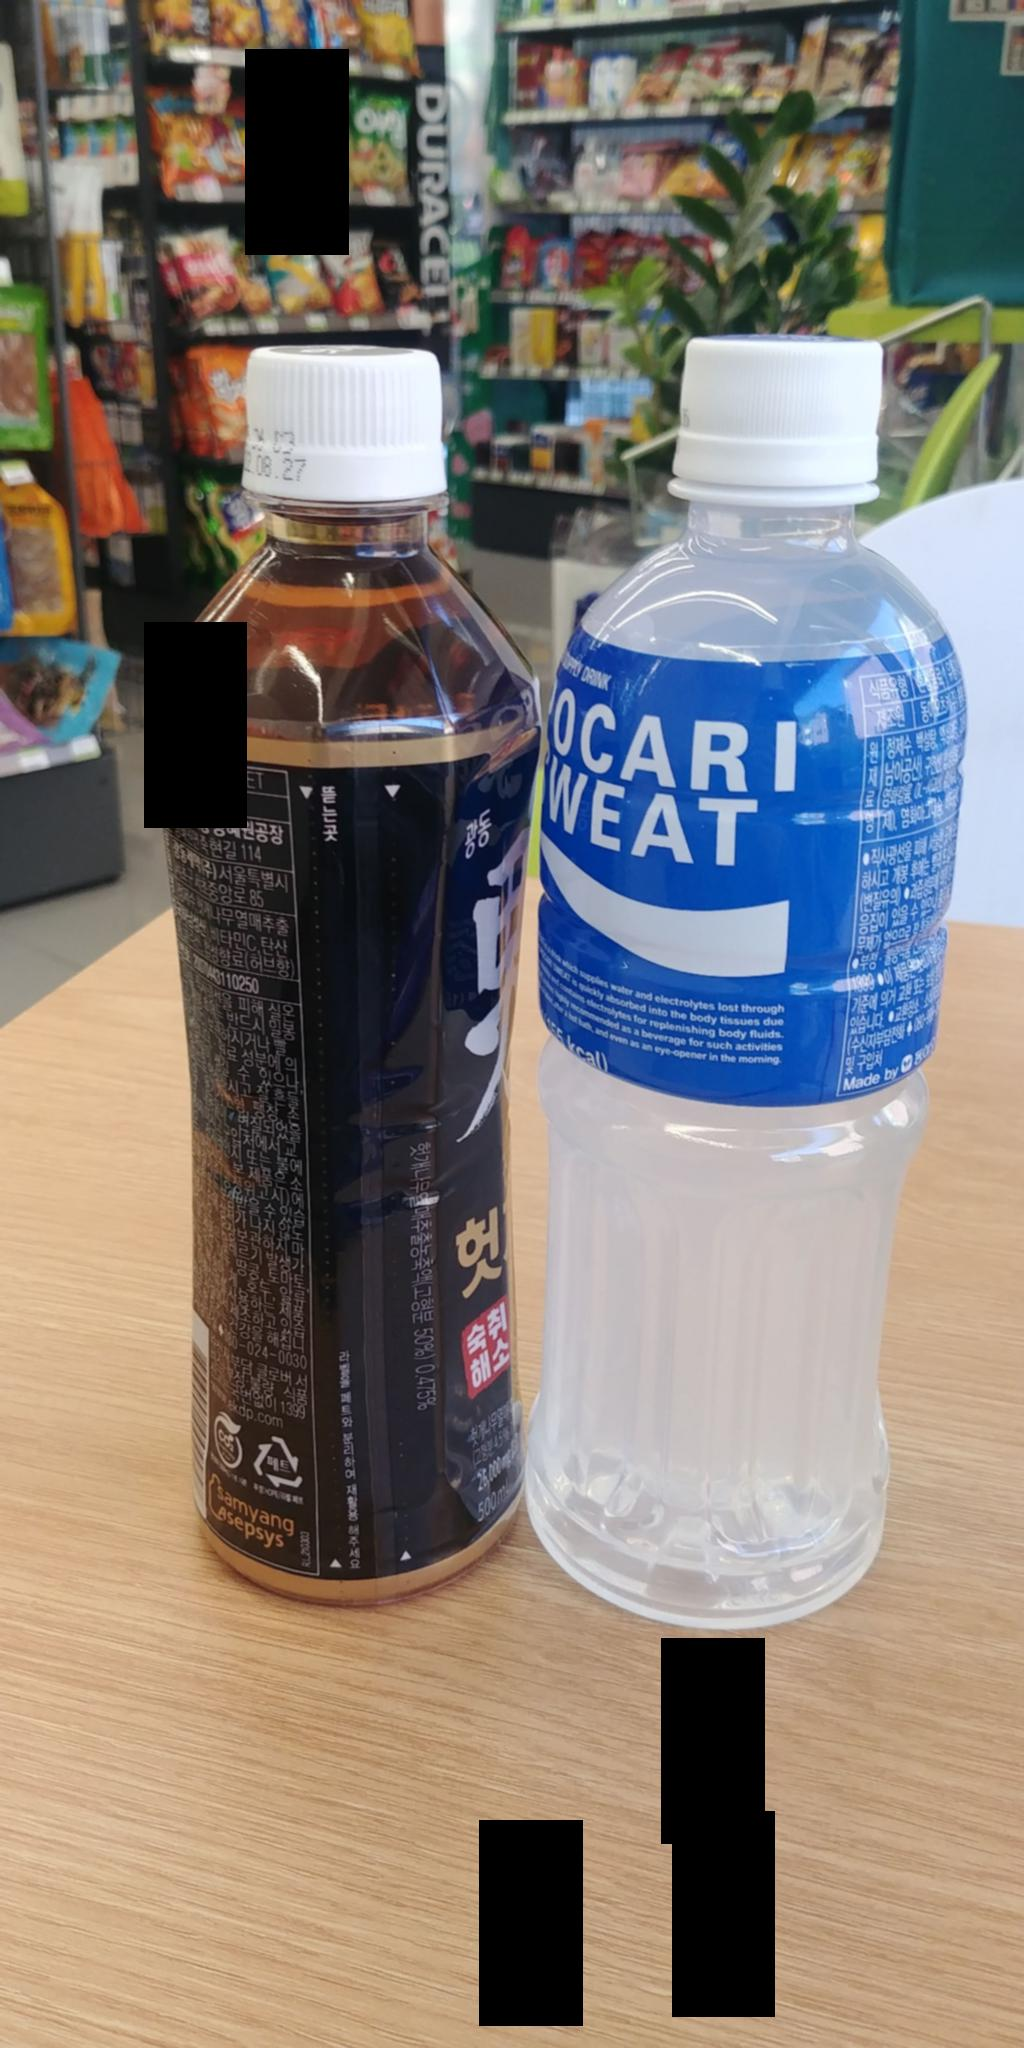heotgaecha: (137, 303, 562, 1612)
pocarisweat: (512, 300, 981, 1648)
